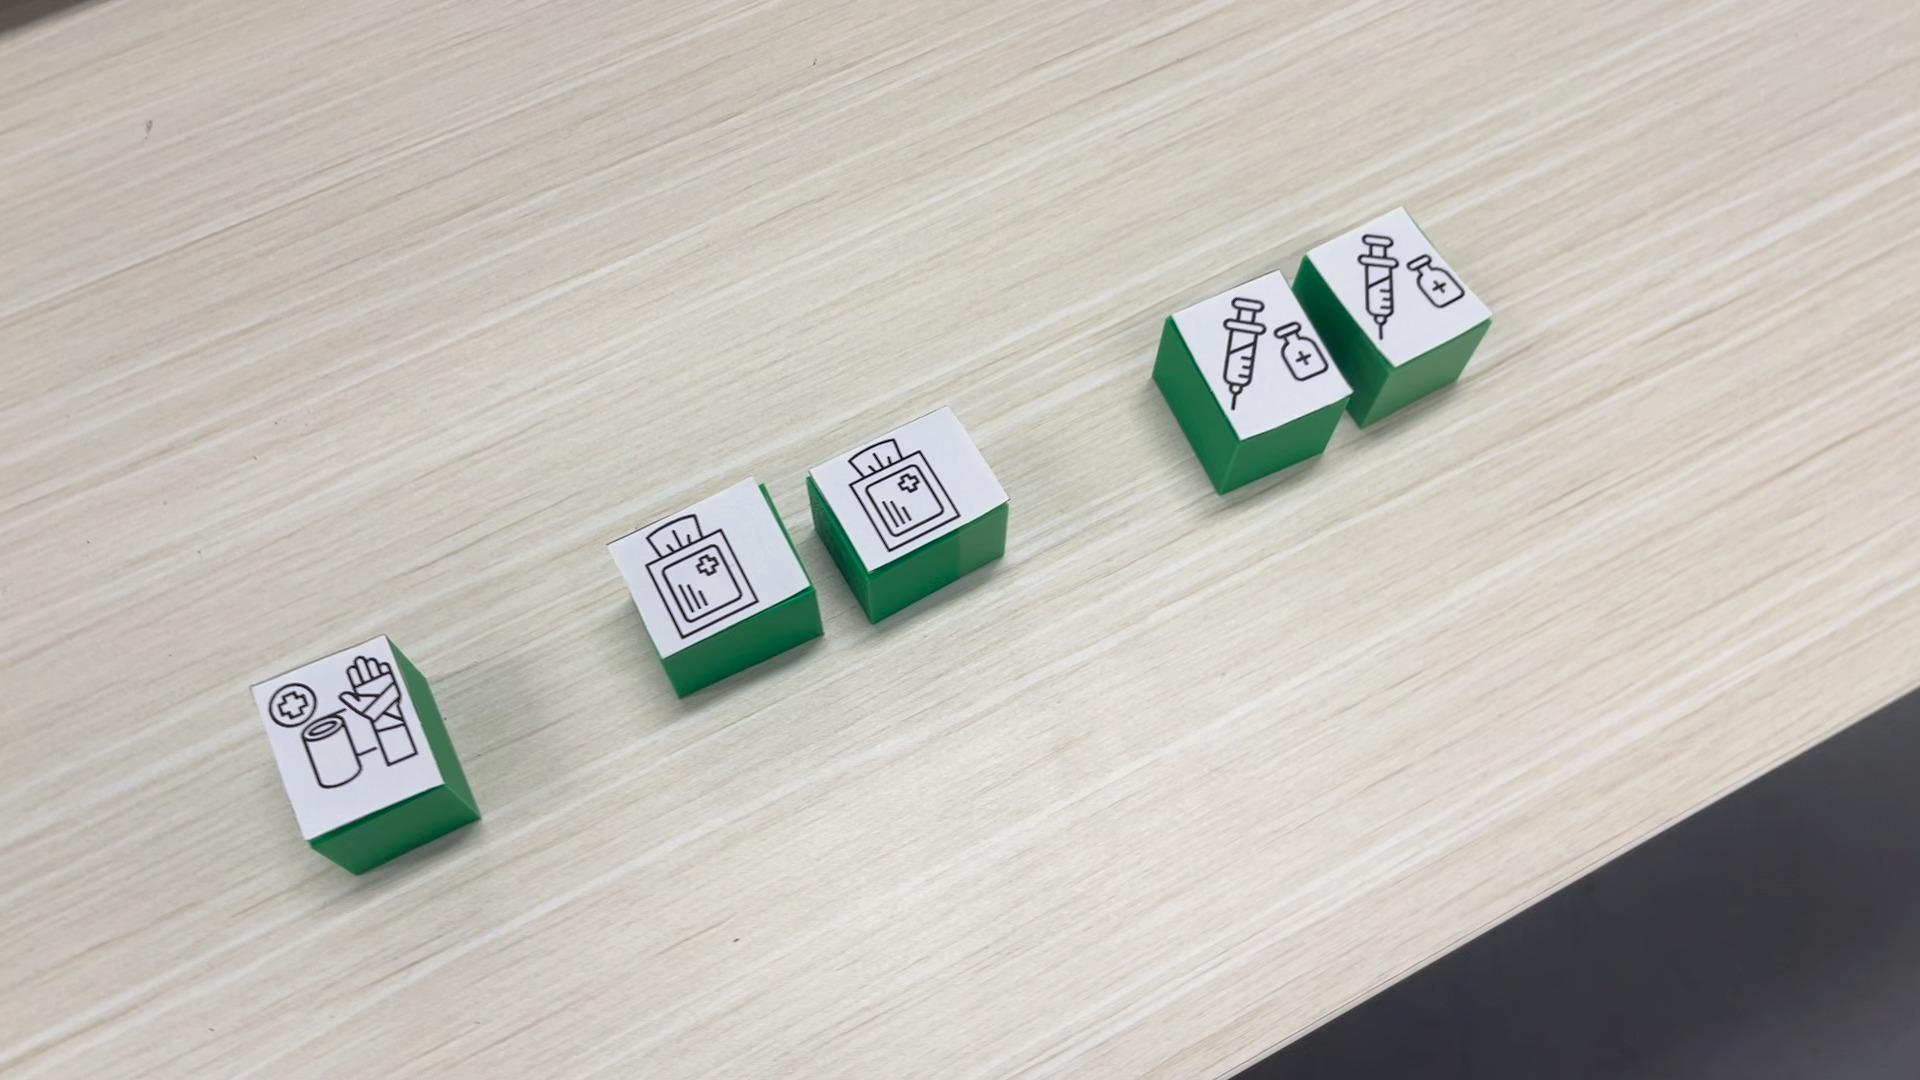Bandages: (243, 633, 480, 874)
Gauze: (603, 477, 823, 698), (807, 407, 1011, 625)
antiseptic cream: (1155, 266, 1352, 496), (1305, 203, 1495, 367)
